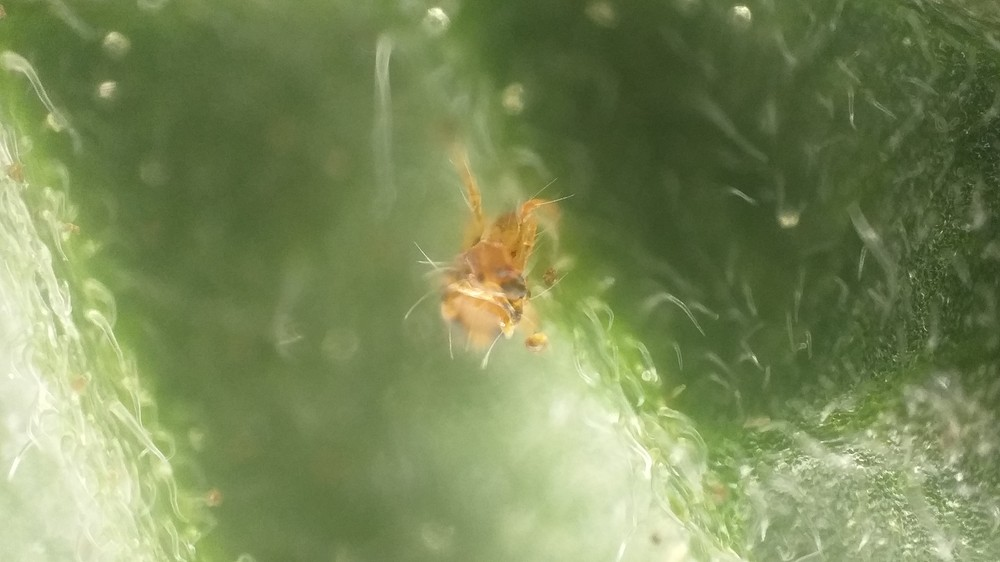Aracnido Rojo: (394, 142, 585, 389)
